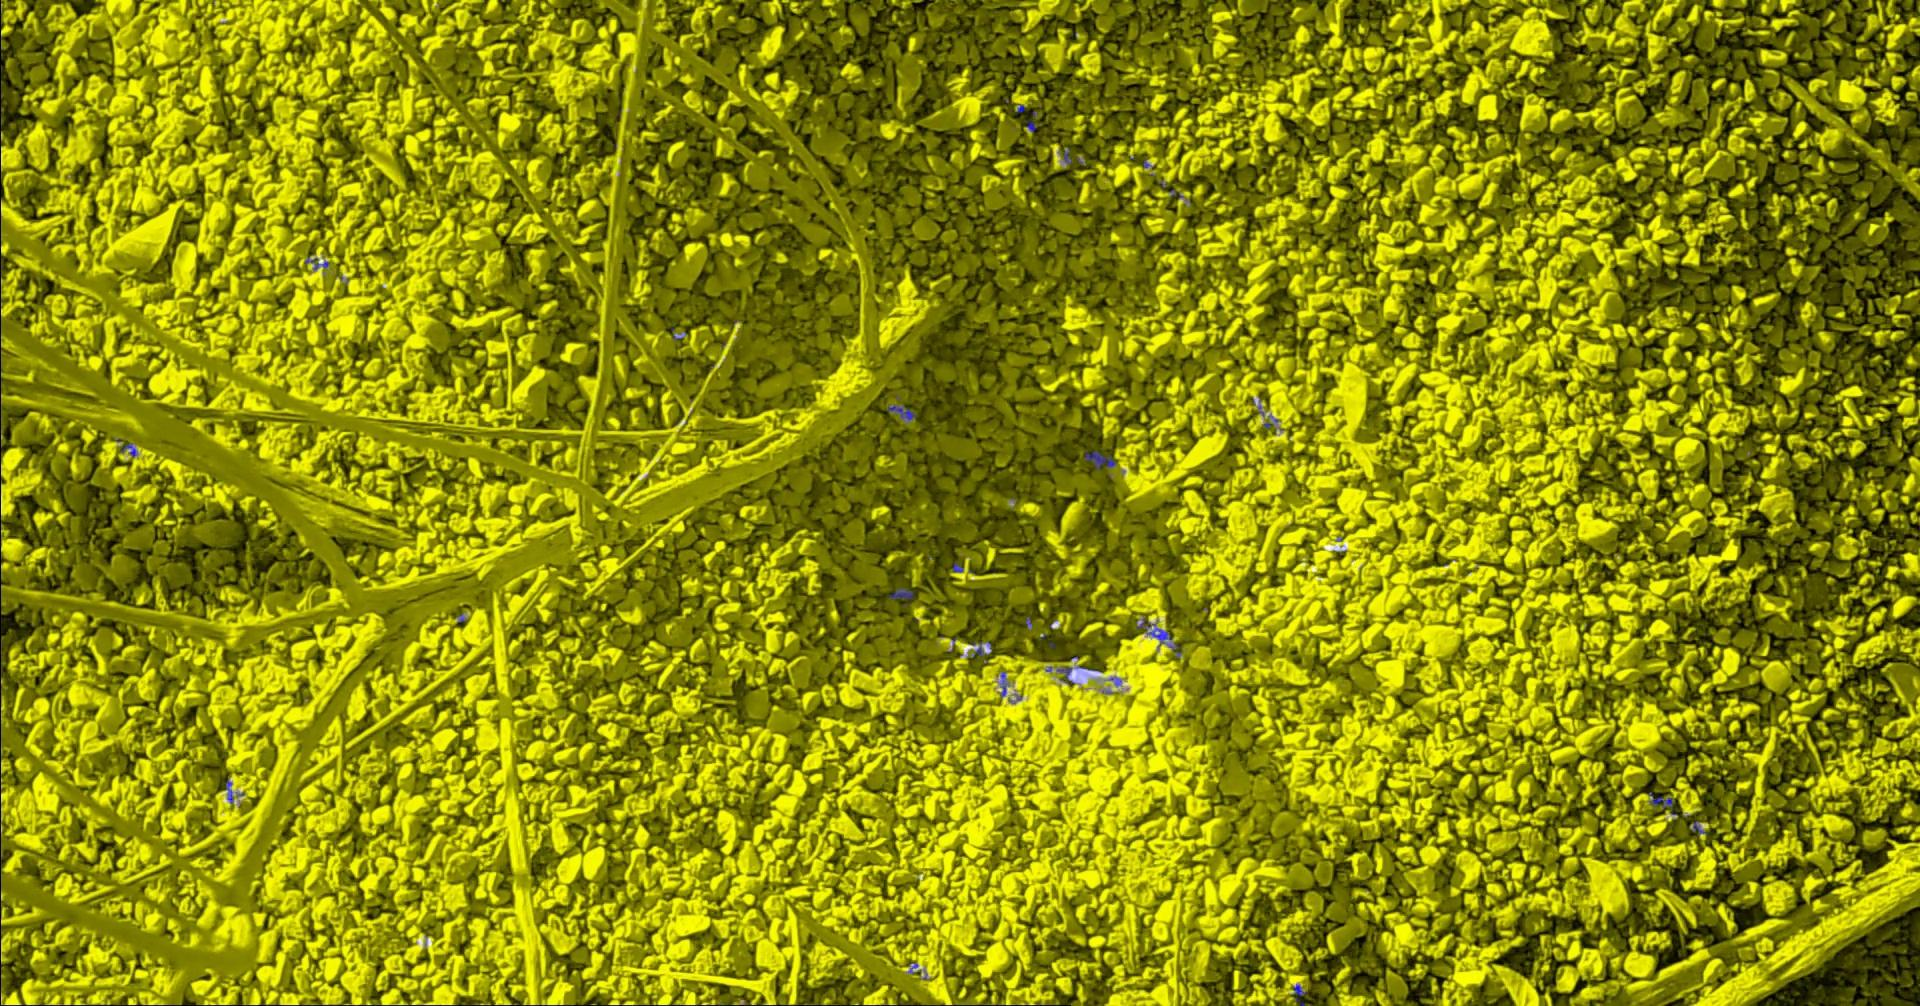ant: (1137, 617, 1175, 641), (1084, 450, 1117, 469), (889, 404, 917, 419), (1650, 791, 1675, 808), (974, 639, 993, 657), (891, 587, 916, 600), (1059, 667, 1076, 683), (1294, 984, 1307, 1005), (226, 779, 235, 803)
